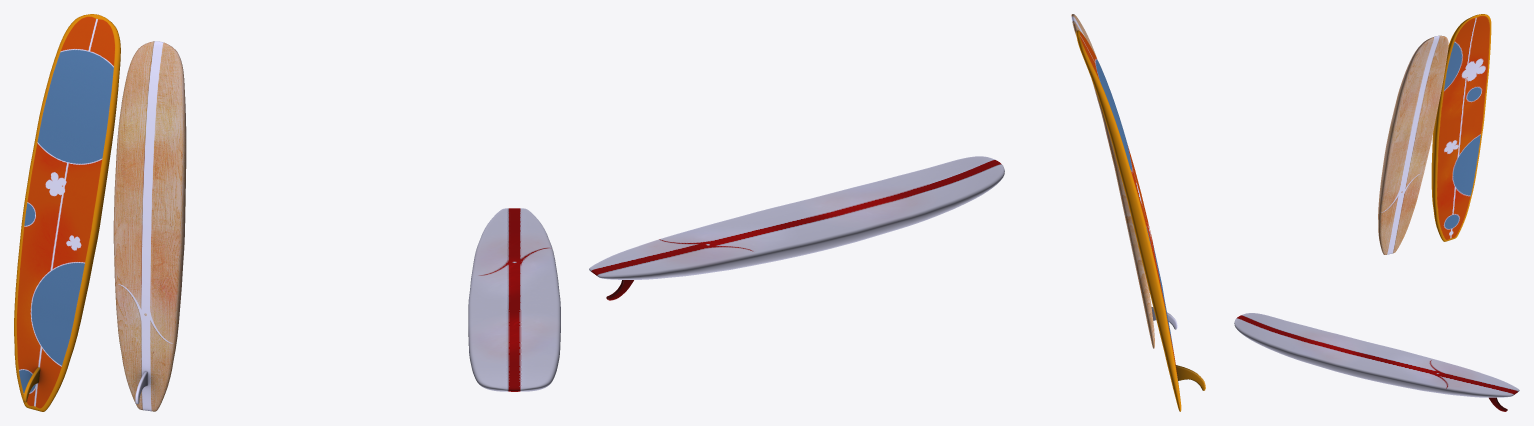
File: Surfboards3.obj
The picture shows the model from 3 angles, left to right: view 1: azimuth 30°, elevation 25°; view 2: azimuth 150°, elevation 25°; view 3: azimuth 270°, elevation 25°; orthographic projection. The views are drawn at different scales.
Visible parts, largest first — view 1: Plane03_1, Plane03_2, Plane03; view 2: Plane03, Plane03_1, Plane03_2; view 3: Plane03_1, Plane03, Plane03_2.
Part boxes in pixels (x1,y1,x2,y2): Plane03_1: [14, 14, 120, 411]; Plane03_2: [113, 41, 186, 411]; Plane03: [468, 208, 560, 391]; Plane03: [589, 156, 1004, 300]; Plane03_1: [1076, 30, 1205, 411]; Plane03_2: [1071, 14, 1177, 348]; Plane03_1: [1431, 14, 1491, 241]; Plane03: [1234, 313, 1519, 411]; Plane03_2: [1378, 35, 1448, 254].
Bounding box in the file's own units: 1.15 × 0.7152 × 0.7295.
Materials: 3 (3 with a texture image).
